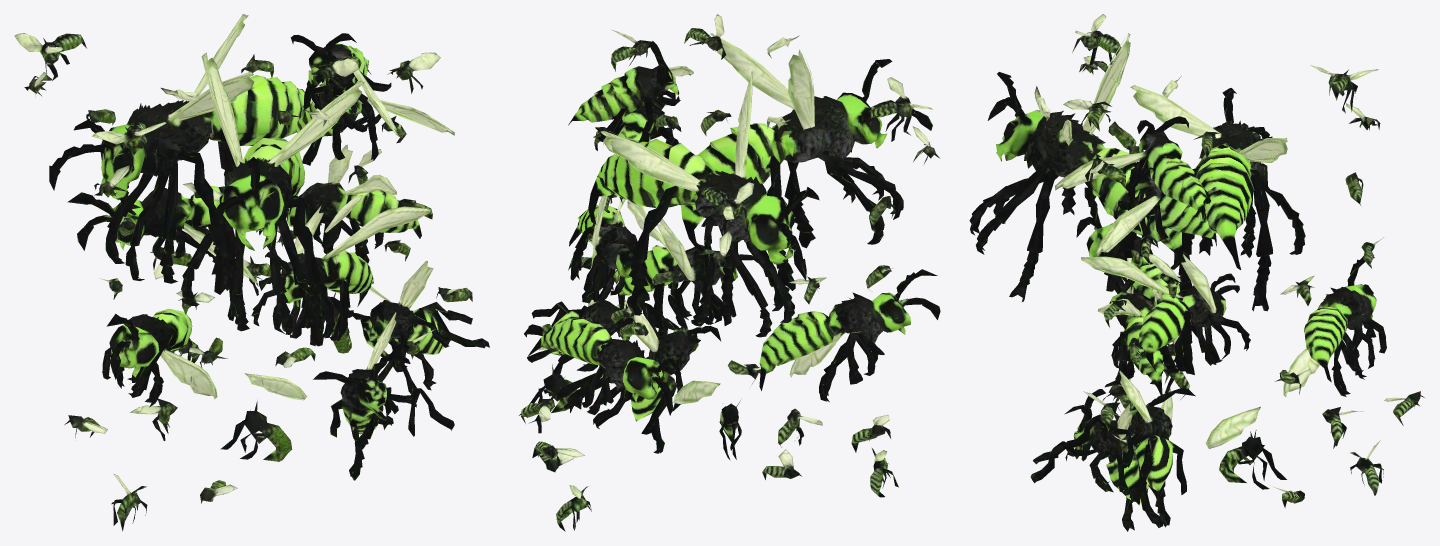
Rendered from swarm.glb.
3 views of the same model, side by side, from view 1: azimuth 30°, elevation 25°; view 2: azimuth 150°, elevation 25°; view 3: azimuth 270°, elevation 25° (orthographic). The views are drawn at different scales.
Parts seen in each view (by area): view 1: Mesh_0; view 2: Mesh_0; view 3: Mesh_0.
Boxes of the visible parts, x1,y1,x2,y2 form: Mesh_0: [14, 14, 489, 531]; Mesh_0: [519, 14, 940, 531]; Mesh_0: [969, 14, 1424, 531].
Bounding box in the file's own units: 1.93 × 2.05 × 1.96.
Materials: 1 (1 with a texture image).
